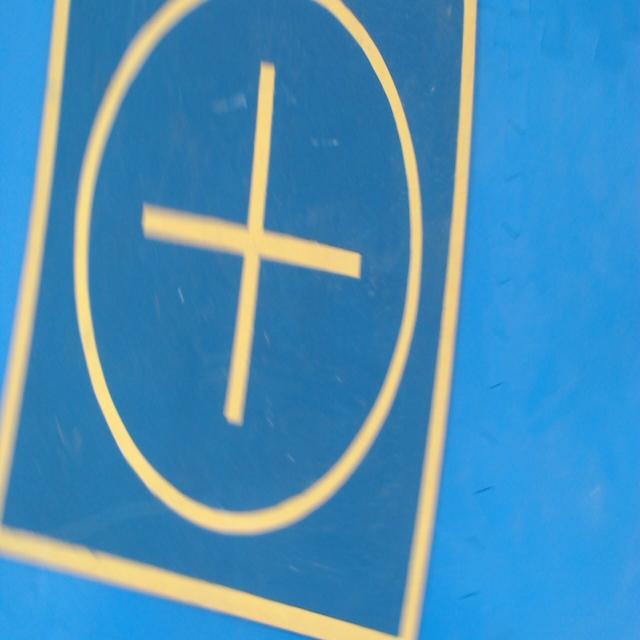base_pouso: (0, 0, 479, 639)
